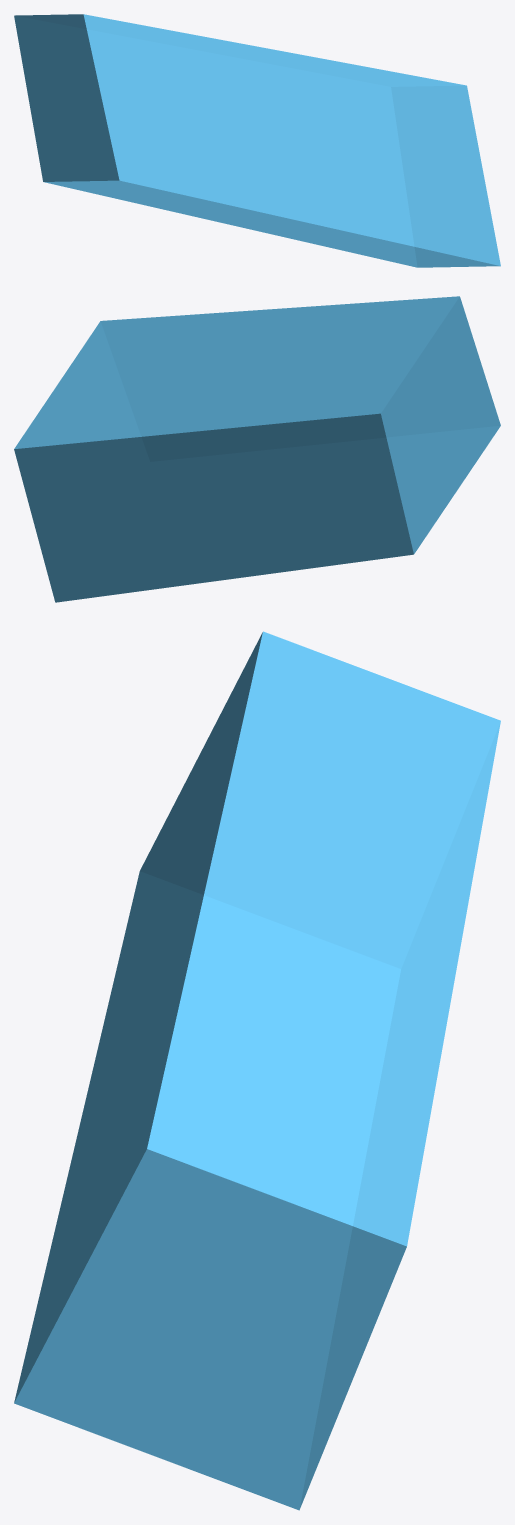
File: Event_421364160_HErechit_19.fbx
3 renders of one model, top to bottom at view 1: azimuth 30°, elevation 25°; view 2: azimuth 150°, elevation 25°; view 3: azimuth 270°, elevation 25°, orthographic. The views are drawn at different scales.
Visible parts, largest first — view 1: Model; view 2: Model; view 3: Model.
Boxes of the visible parts, x1,y1,x2,y2 form: Model: [14, 14, 500, 267]; Model: [14, 296, 500, 602]; Model: [14, 631, 500, 1510].
Bounding box in the file's own units: 0.9463 × 0.8936 × 0.6671.
